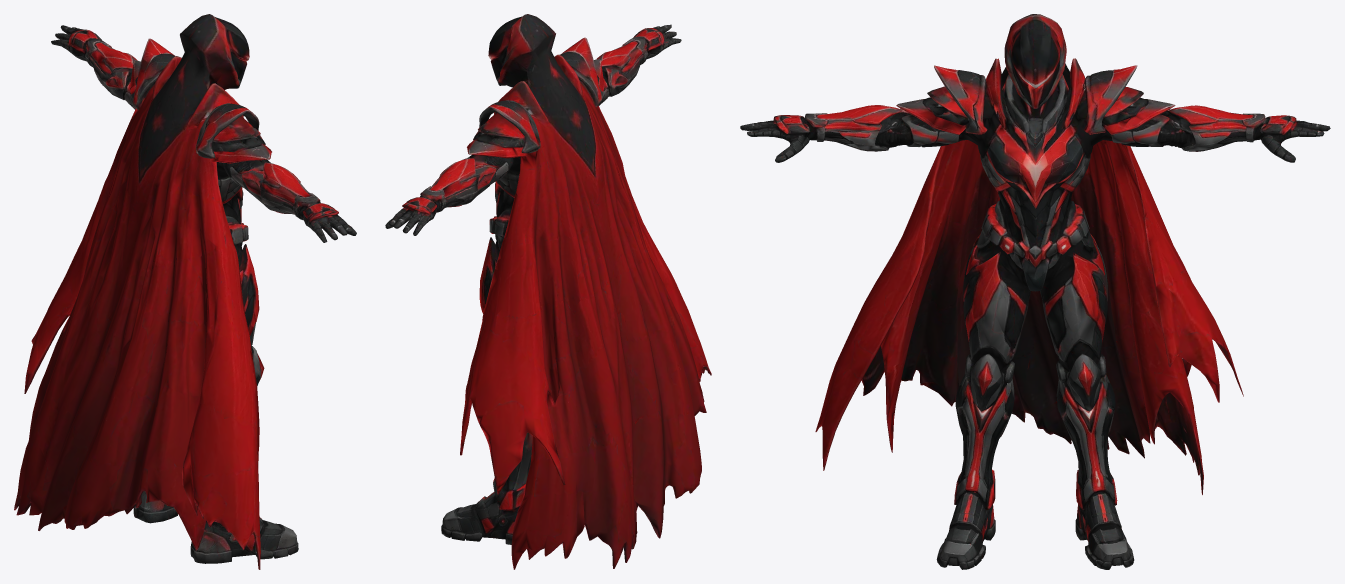
The model's file is herald-general.glb.
3 renders of one model, left to right at view 1: azimuth 30°, elevation 25°; view 2: azimuth 150°, elevation 25°; view 3: azimuth 270°, elevation 25°, orthographic. The views are drawn at different scales.
Size of the model in its own units: 0.4206 by 0.9997 by 1.
1 material, 1 textured.
